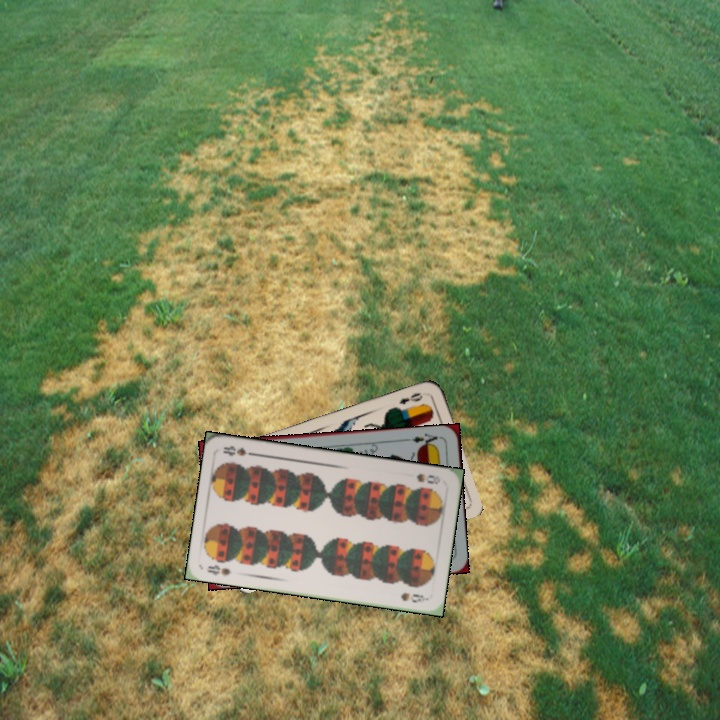EA: (408, 429, 443, 450)
EO: (395, 388, 425, 407)
S8: (412, 469, 443, 487), (203, 561, 234, 578)
